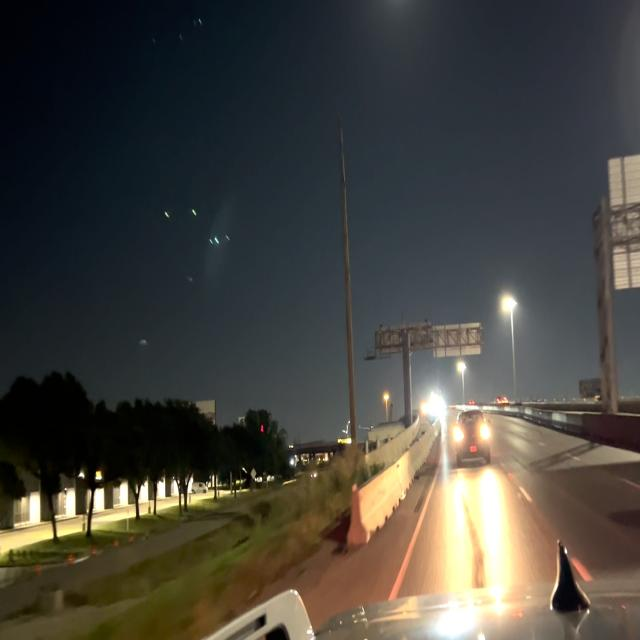back-of-sign: (606, 148, 640, 296), (430, 317, 483, 363)
